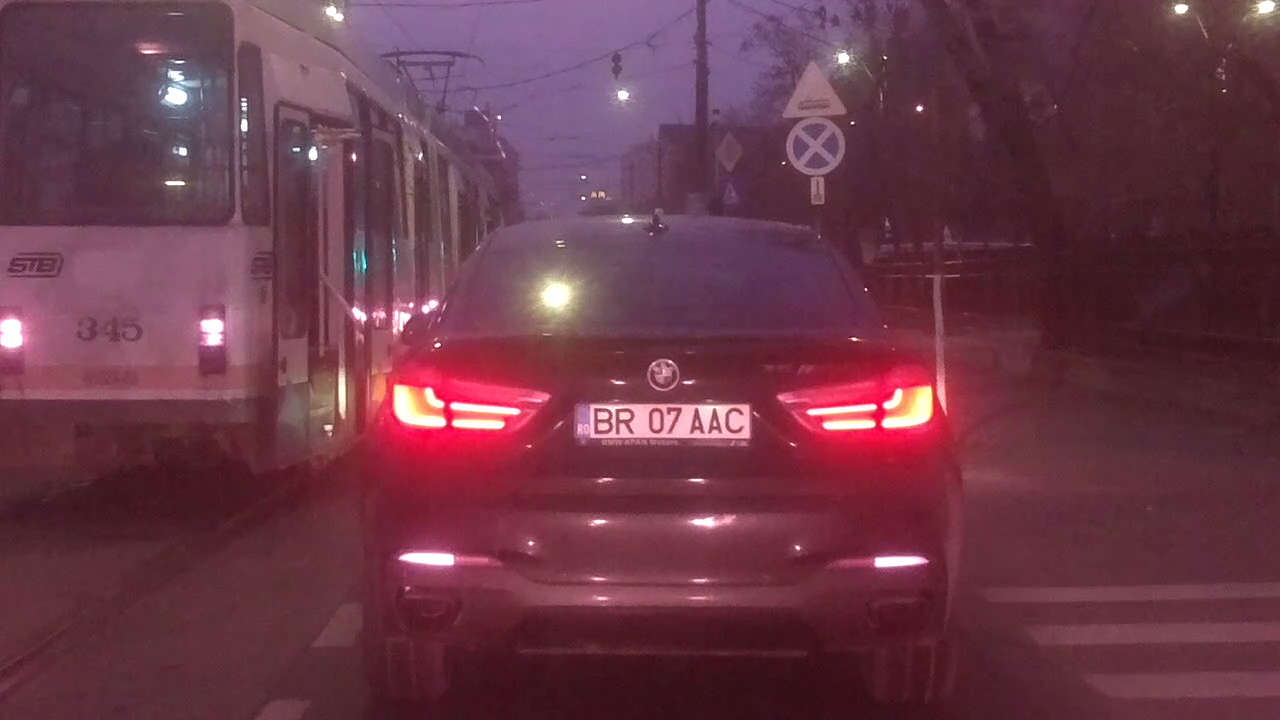license-plate: (571, 400, 753, 443)
